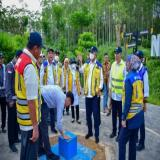Vest: (15, 54, 42, 124), (122, 70, 145, 126), (83, 58, 101, 96), (111, 61, 125, 95), (43, 58, 57, 86), (67, 69, 81, 96)
